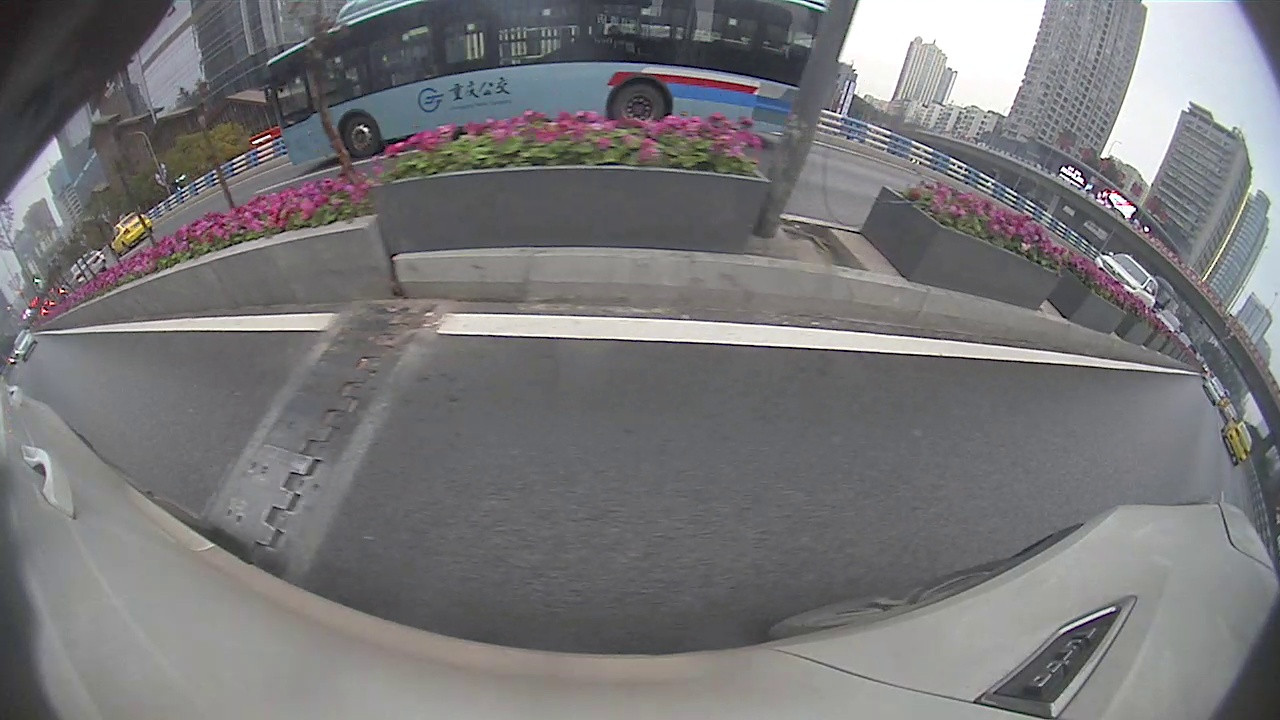car: (262, 4, 838, 164), (1220, 416, 1253, 466)
front: (341, 113, 383, 157)
rear: (612, 85, 665, 126)
